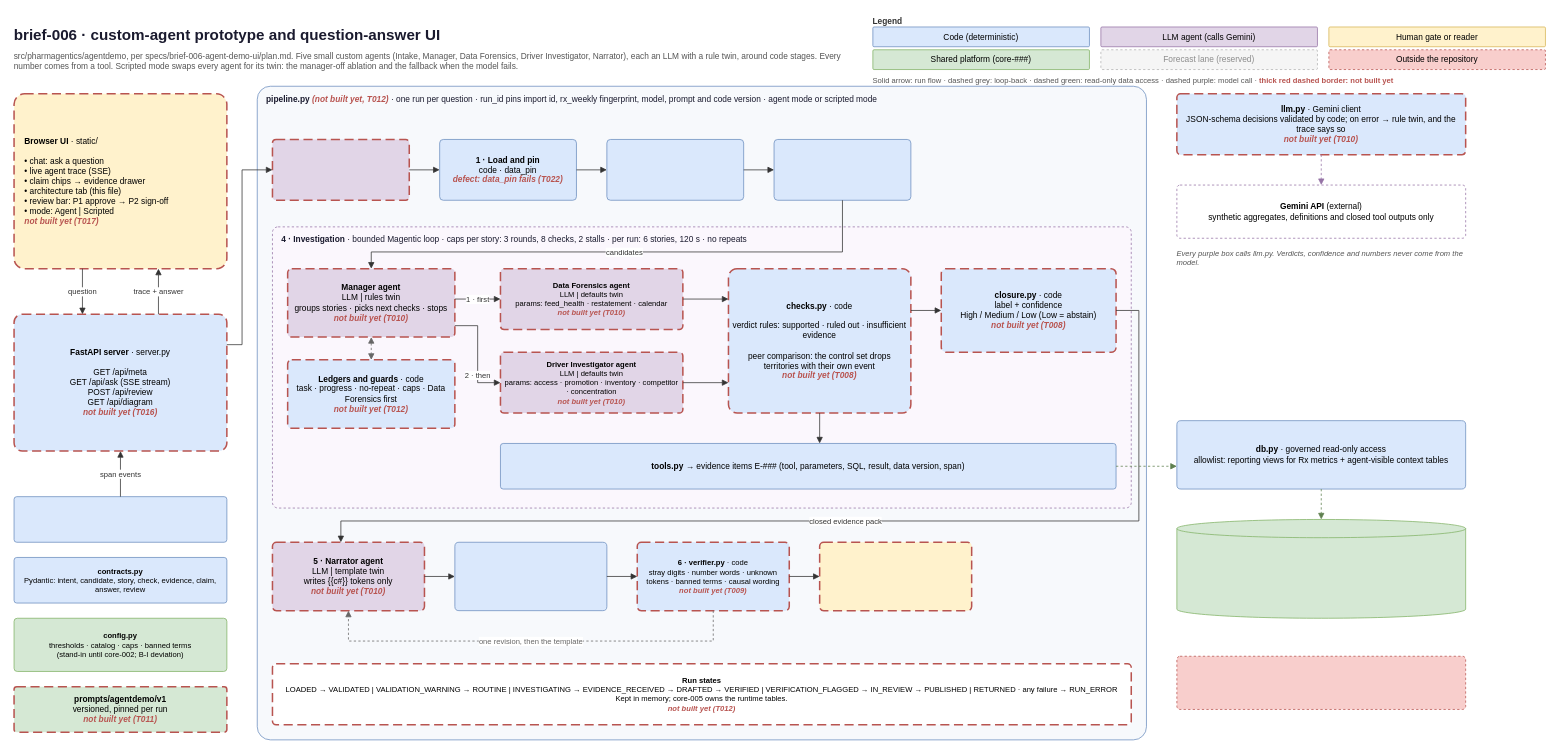
This 1562x753 diagram has some shape labels left out. Here are the shapes that lost their labels. From the top down, the centre of each, then its label:
the point at 340,169: Intake agent LLM | regex twin question → typed intent not built yet (T010)
the point at 675,169: 2 · Feed gate code · v_feed_health; withheld cuts named
the point at 842,169: 3 · Competitive intelligence code · detection.py defect: competitor rule (T023)
the point at 120,519: tracing.py spans → event stream
the point at 530,576: claims.py · code renderer fills tokens from evidence
the point at 895,576: 7 · review.py · human P1 approve → P2 sign-off, or return not built yet (T018)
the point at 1321,568: DuckDB local/pharmagentics.duckdb (core-001 loader)
the point at 1321,682: Eval store never read: no path, no env var, no tool
